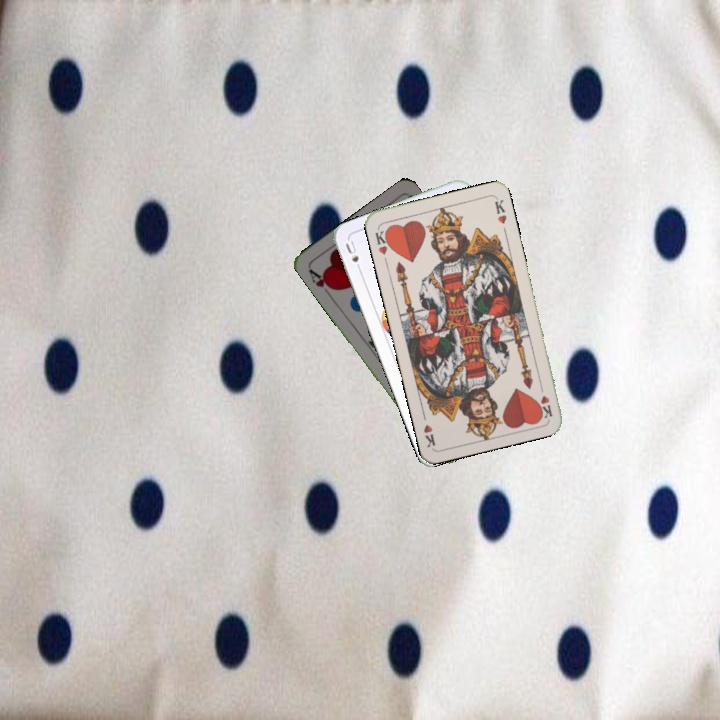HA: (305, 265, 338, 299)
HK: (536, 379, 555, 420), (371, 225, 394, 257)
SU: (341, 236, 365, 276)
